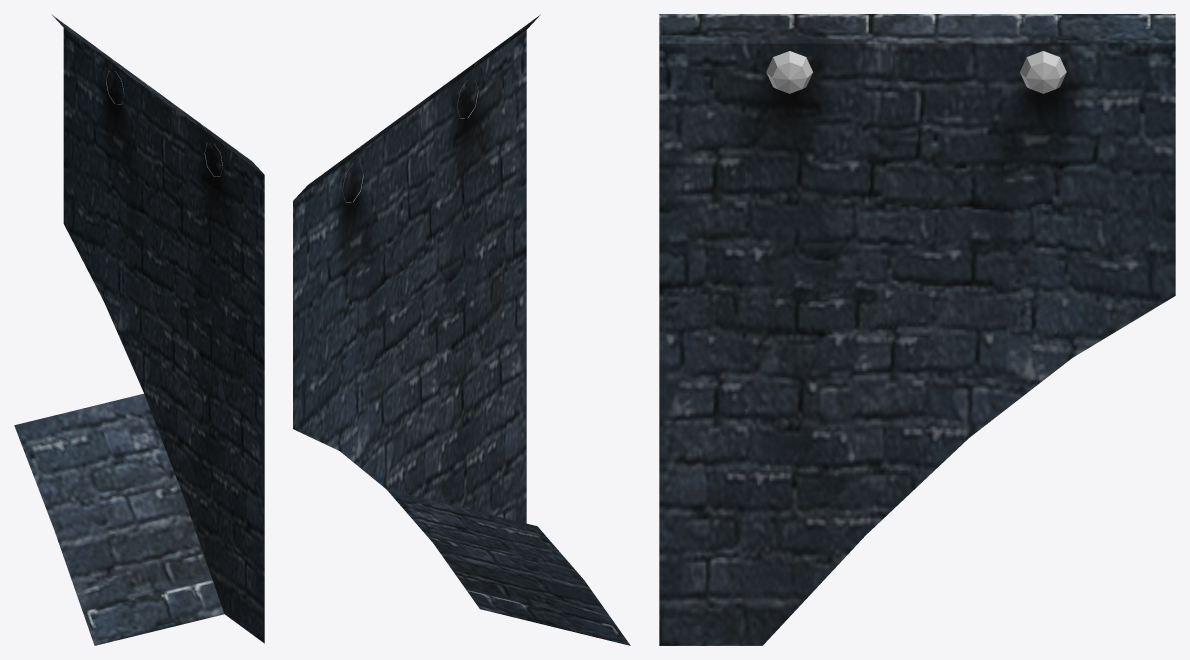
The picture shows the model from 3 angles, left to right: view 1: azimuth 30°, elevation 25°; view 2: azimuth 150°, elevation 25°; view 3: azimuth 270°, elevation 25°; orthographic projection. The views are drawn at different scales.
Visible parts, largest first — view 1: xs_wj03; view 2: xs_wj03; view 3: xs_wj03.
Part boxes in pixels (box(x1,y1,x2,y2)): xs_wj03: box(14, 14, 264, 645); xs_wj03: box(293, 14, 630, 645); xs_wj03: box(659, 14, 1175, 645).
Bounding box in the file's own units: 623 × 2032 × 1524.
